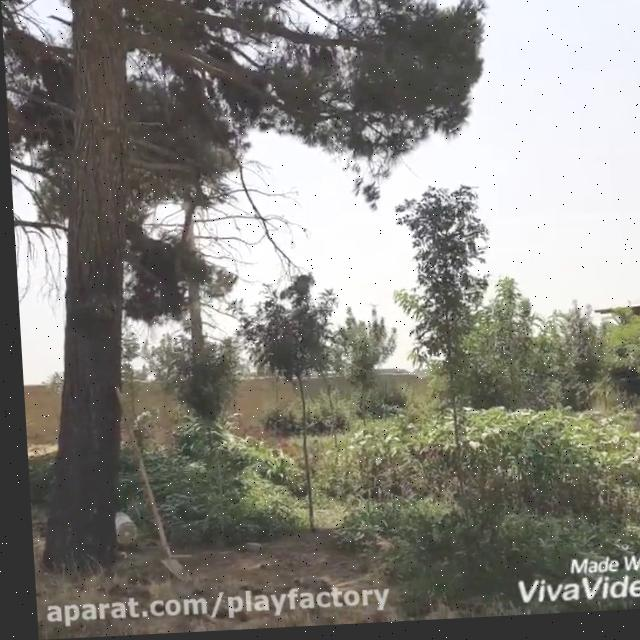drone: (365, 301, 375, 310)
